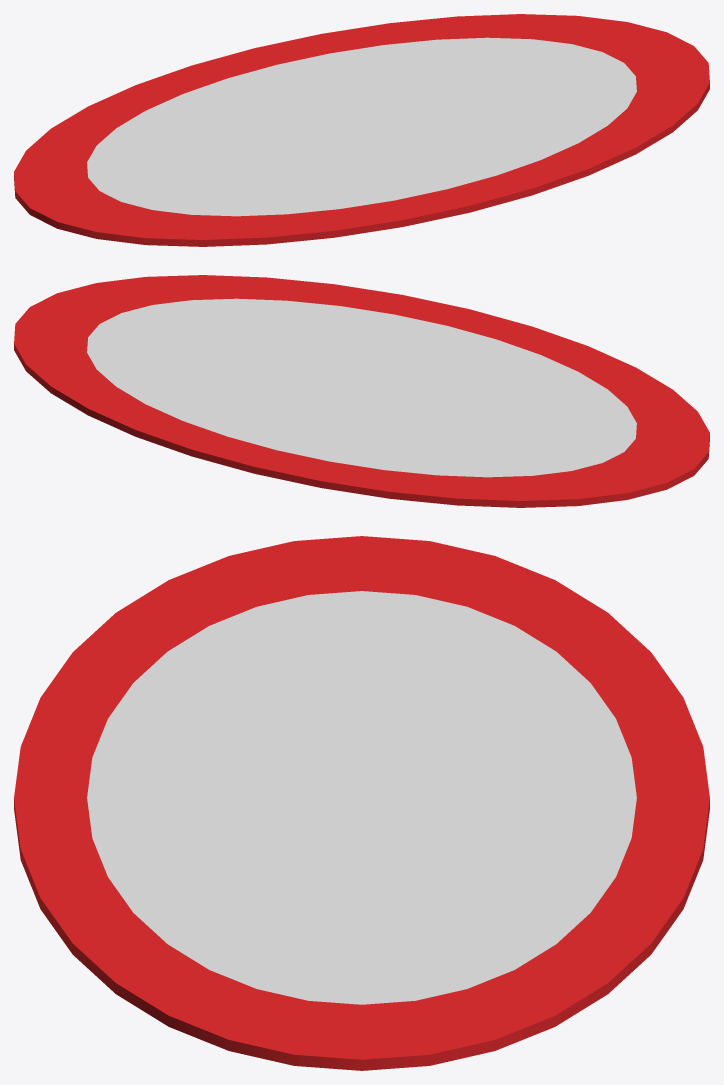
File: SM_CarperOval.fbx
3 views of the same model, one above another, from view 1: azimuth 30°, elevation 25°; view 2: azimuth 150°, elevation 25°; view 3: azimuth 270°, elevation 25° (orthographic). The views are drawn at different scales.
Parts seen in each view (by area): view 1: Cylinder; view 2: Cylinder; view 3: Cylinder.
Boxes of the visible parts, x1,y1,x2,y2 form: Cylinder: (14, 14, 709, 246); Cylinder: (14, 275, 709, 507); Cylinder: (14, 536, 709, 1070).
Bounding box in the file's own units: 158 × 1.57 × 88.64.
